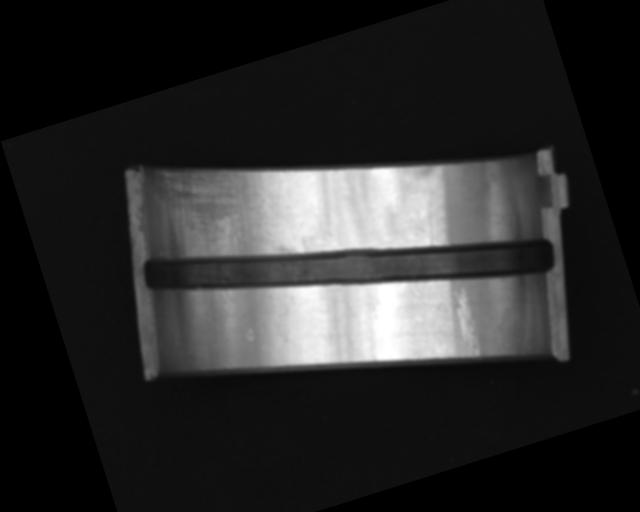bruise: (244, 327, 257, 342)
gap: (139, 141, 561, 387)
nick: (447, 283, 488, 362), (418, 201, 446, 248)
scratch: (141, 135, 300, 291)
